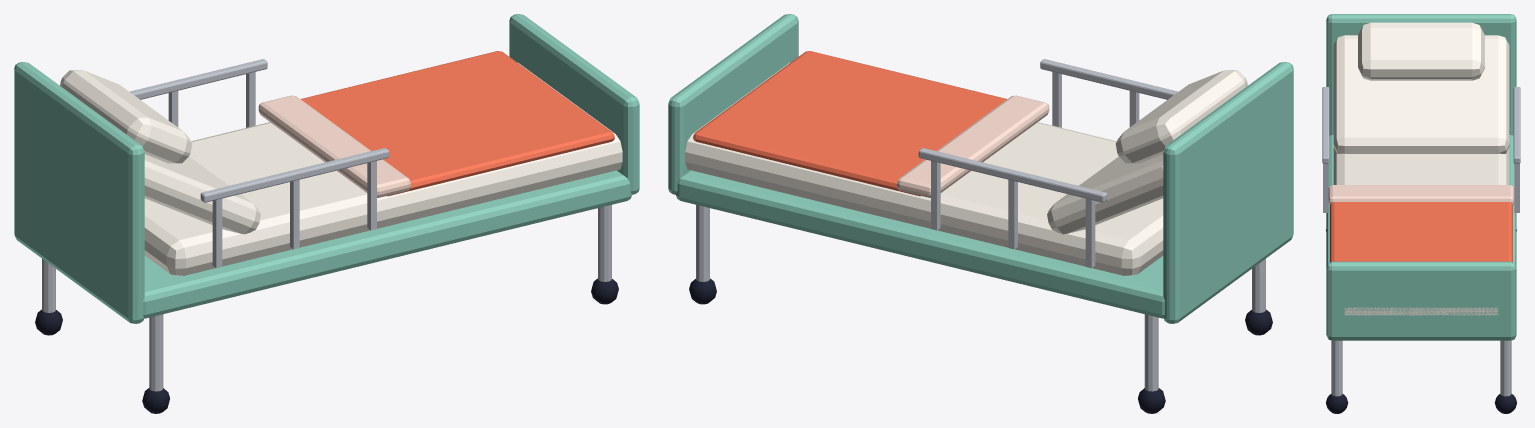
File: hospital_bed.glb
3 renders of one model, left to right at view 1: azimuth 30°, elevation 25°; view 2: azimuth 150°, elevation 25°; view 3: azimuth 270°, elevation 25°, orthographic. The views are drawn at different scales.
Visible parts, largest first — view 1: mattress, headboard, blanket, frame, footboard, pillow, blanketFold, backrest, rail-1, rail1, leg-1-1, leg1-1 (+7 smaller); view 2: mattress, headboard, blanket, frame, footboard, pillow, blanketFold, backrest, rail1, rail-1, leg-11, leg11 (+7 smaller); view 3: backrest, footboard, blanket, pillow, mattress, headboard, blanketFold, frame, leg1-1, leg11, rail-1, rail1 (+4 smaller).
Boxes of the visible parts, <box> form: mattress: <box>144,63,622,275</box>; headboard: <box>14,62,144,323</box>; blanket: <box>301,51,614,196</box>; frame: <box>143,170,631,318</box>; footboard: <box>509,14,639,194</box>; pillow: <box>60,70,192,163</box>; blanketFold: <box>258,95,410,197</box>; backrest: <box>144,154,260,234</box>; rail-1: <box>200,148,389,202</box>; rail1: <box>129,59,267,99</box>; leg-1-1: <box>149,314,163,391</box>; leg1-1: <box>598,205,611,281</box>; mattress: <box>685,63,1163,275</box>; headboard: <box>1163,62,1293,323</box>; blanket: <box>693,51,1006,196</box>; frame: <box>676,170,1164,318</box>; footboard: <box>668,14,798,194</box>; pillow: <box>1115,70,1247,163</box>; blanketFold: <box>897,95,1049,197</box>; backrest: <box>1047,154,1163,234</box>; rail1: <box>918,148,1107,202</box>; rail-1: <box>1040,59,1178,99</box>; leg-11: <box>1144,314,1158,391</box>; leg11: <box>696,205,709,281</box>; backrest: <box>1333,35,1509,153</box>; footboard: <box>1326,261,1516,339</box>; blanket: <box>1330,202,1512,262</box>; pillow: <box>1358,22,1484,80</box>; mattress: <box>1333,147,1509,315</box>; headboard: <box>1326,14,1516,135</box>; blanketFold: <box>1328,185,1514,204</box>; frame: <box>1326,135,1516,340</box>; leg1-1: <box>1331,340,1342,396</box>; leg11: <box>1500,340,1511,396</box>; rail-1: <box>1322,87,1329,163</box>; rail1: <box>1513,87,1520,163</box>.
Bounding box in the file's own units: 3.3 × 1.72 × 1.41.
